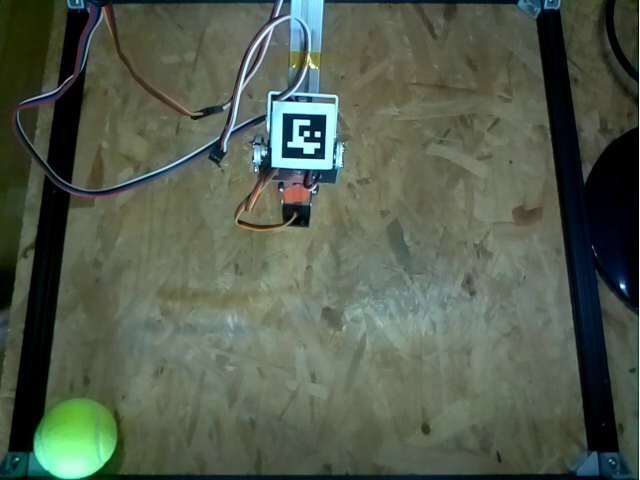tennis_ball: (33, 399, 117, 478)
